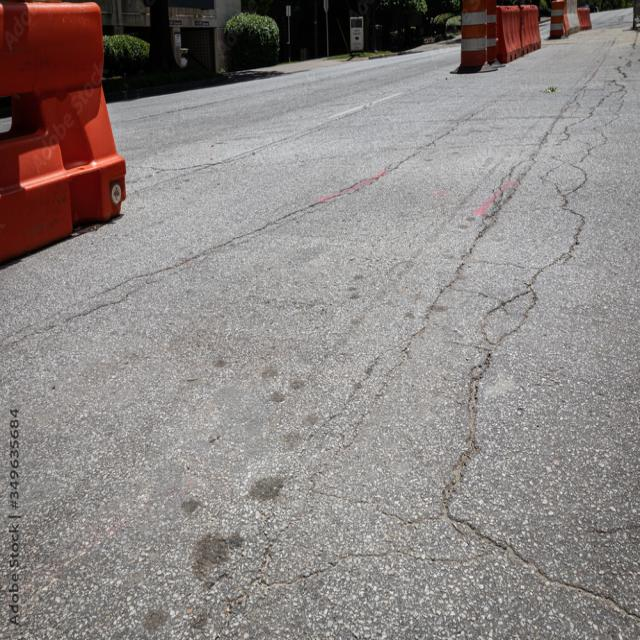Pothole: (417, 54, 639, 640)
